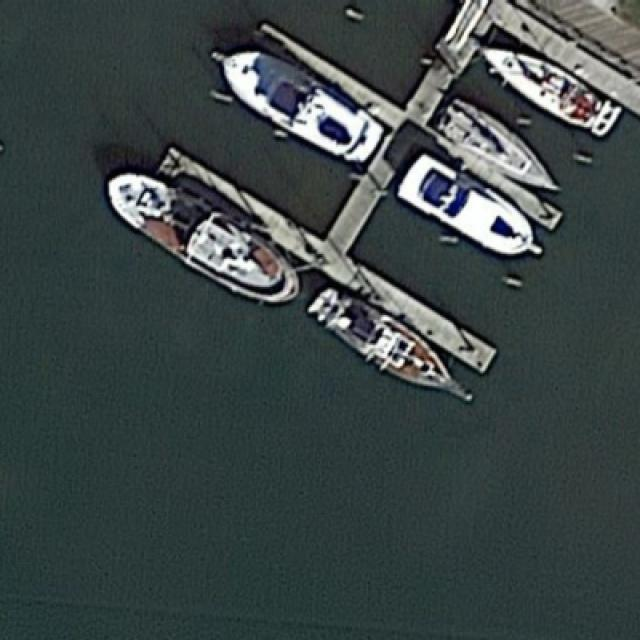boat: (101, 165, 299, 305), (207, 46, 386, 165), (307, 286, 477, 402), (395, 145, 539, 257), (431, 87, 562, 190), (477, 43, 613, 135)
